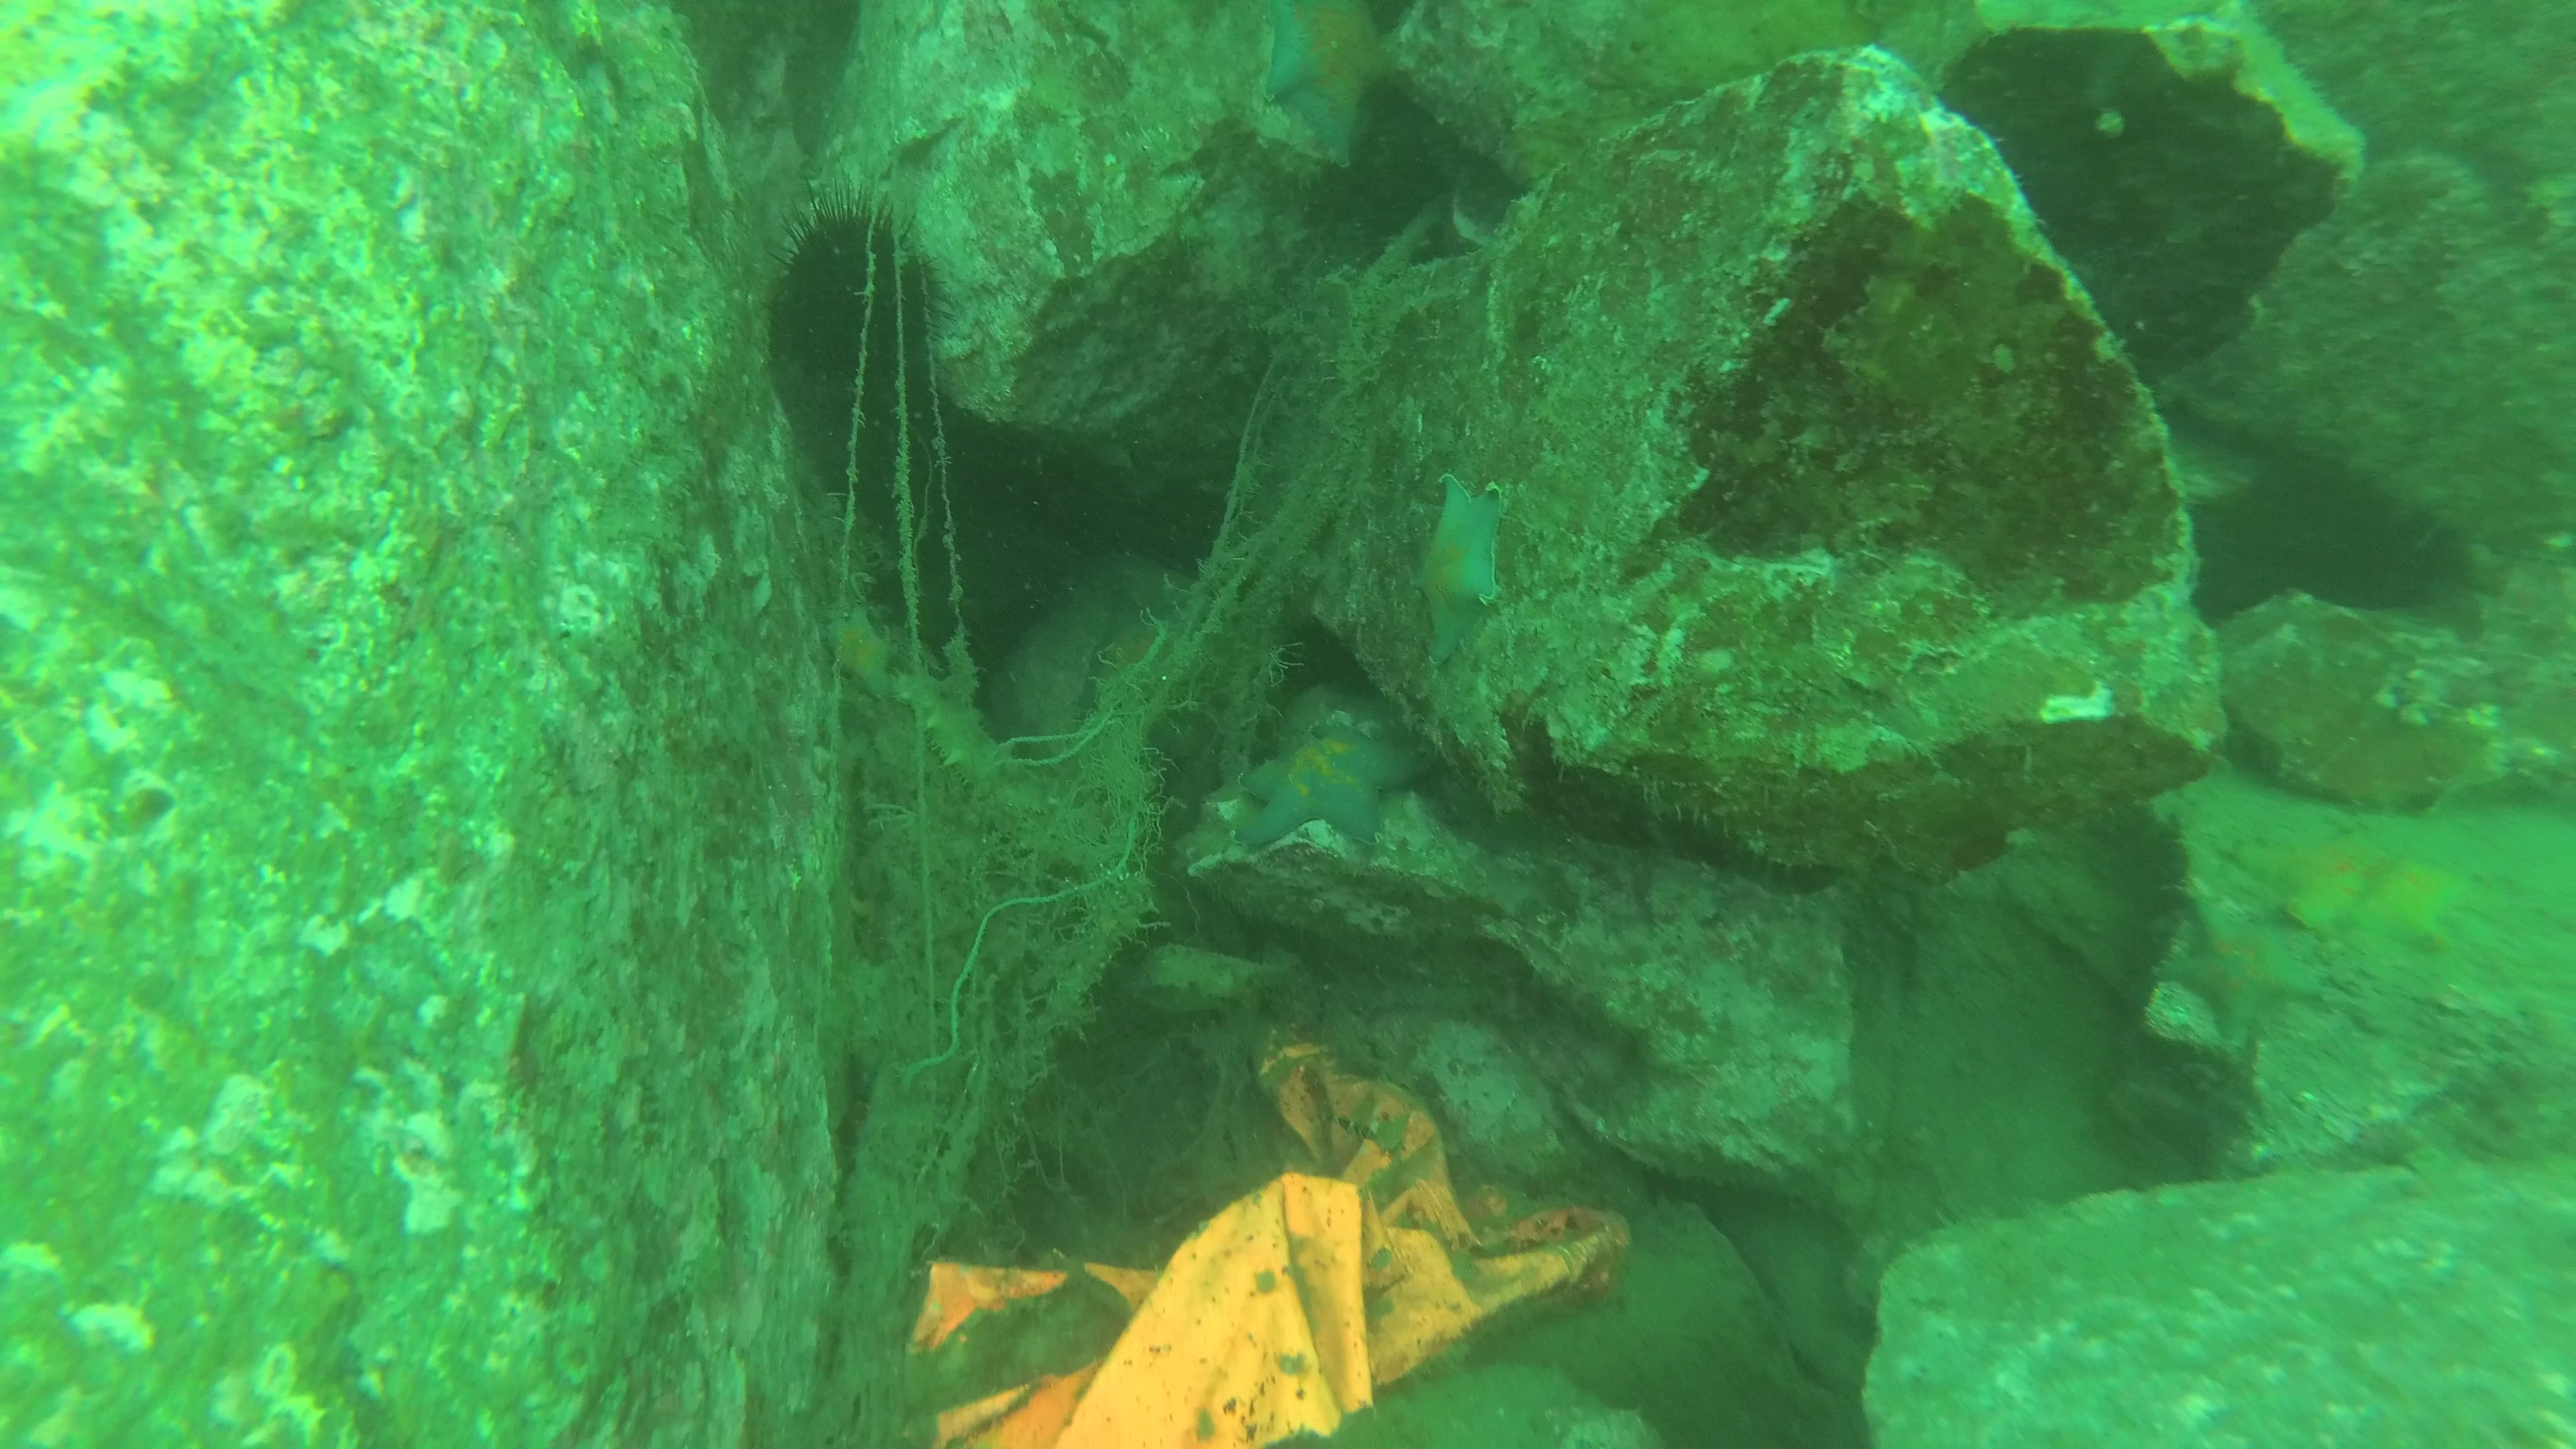echinus: (757, 173, 962, 403)
holothurian: (899, 669, 1056, 814)
starfish: (2233, 821, 2465, 950), (1230, 717, 1438, 853), (1258, 0, 1392, 165), (1407, 472, 1507, 665), (821, 600, 902, 702)
